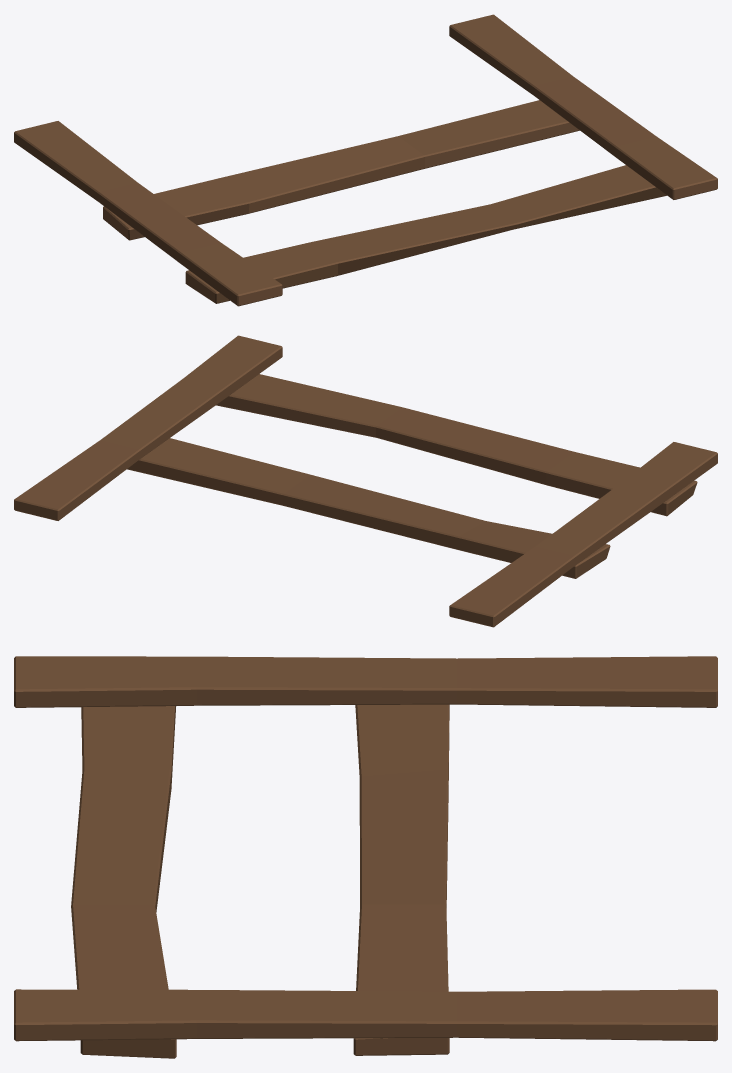
The model's file is Barrier_05.fbx.
The picture shows the model from 3 angles, top to bottom: view 1: azimuth 30°, elevation 25°; view 2: azimuth 150°, elevation 25°; view 3: azimuth 270°, elevation 25°; orthographic projection. The views are drawn at different scales.
Parts seen in each view (by area): view 1: Barriere_5.0_LOW.001; view 2: Barriere_5.0_LOW.001; view 3: Barriere_5.0_LOW.001.
Boxes of the visible parts, x1=… form: Barriere_5.0_LOW.001: x1=14, y1=14, x2=717, y2=306; Barriere_5.0_LOW.001: x1=14, y1=335, x2=717, y2=627; Barriere_5.0_LOW.001: x1=14, y1=656, x2=717, y2=1058.
Size of the model in its own units: 152 by 9.07 by 123.
